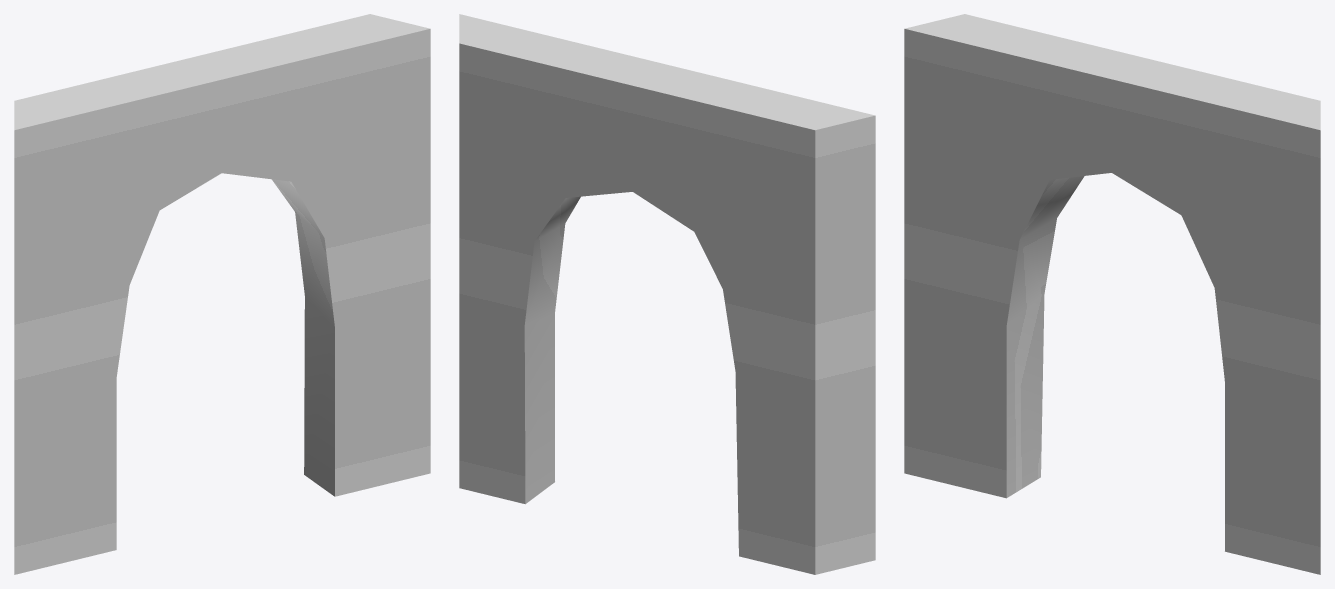
Rendered from Polycube_62.FBX.
3 views of the same model, side by side, from view 1: azimuth 30°, elevation 25°; view 2: azimuth 150°, elevation 25°; view 3: azimuth 330°, elevation 25° (orthographic).
Parts seen in each view (by area): view 1: Polycube_62; view 2: Polycube_62; view 3: Polycube_62.
Part boxes in pixels (x1,y1,x2,y2): Polycube_62: [14, 14, 430, 574]; Polycube_62: [459, 14, 875, 574]; Polycube_62: [904, 14, 1320, 574].
Size of the model in its own units: 6.89 by 7.04 by 0.866.
